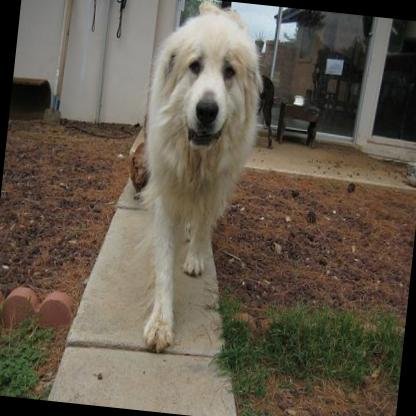Great_Pyrenees: (120, 0, 267, 363)
